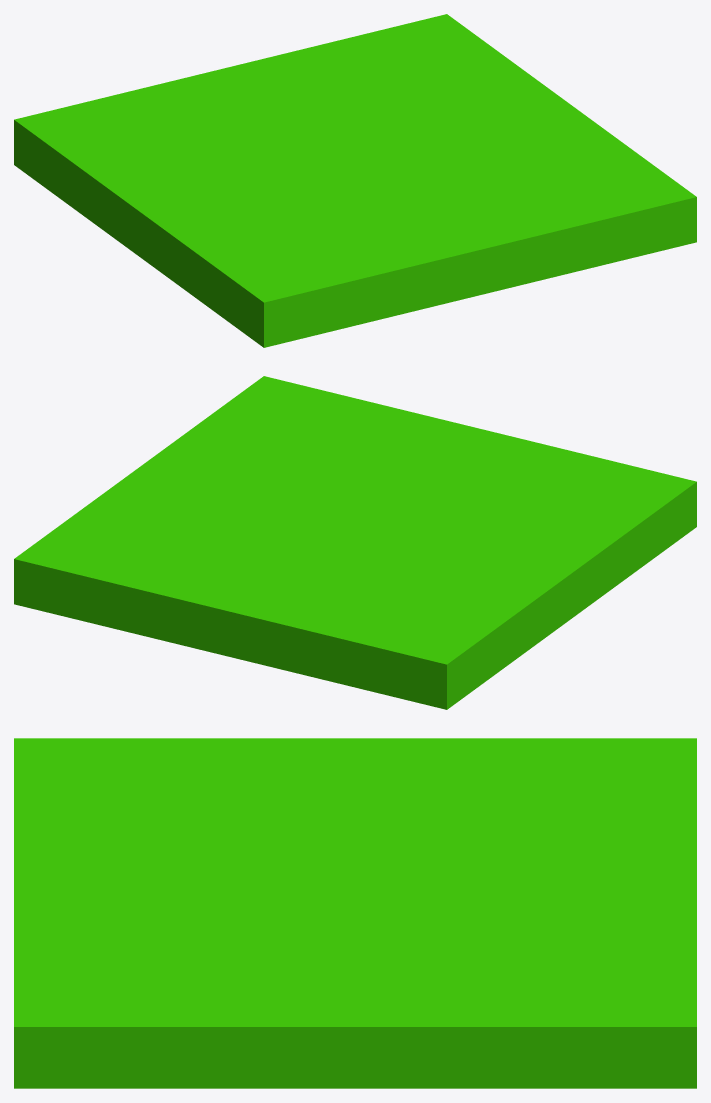
The model's file is terrain.fbx.
3 renders of one model, top to bottom at view 1: azimuth 30°, elevation 25°; view 2: azimuth 150°, elevation 25°; view 3: azimuth 270°, elevation 25°, orthographic. The views are drawn at different scales.
Parts seen in each view (by area): view 1: Box001; view 2: Box001; view 3: Box001.
Part boxes in pixels (x1=…): Box001: x1=14, y1=14, x2=696, y2=347; Box001: x1=14, y1=376, x2=696, y2=709; Box001: x1=14, y1=738, x2=696, y2=1088.
Size of the model in its own units: 400 by 40 by 400.
